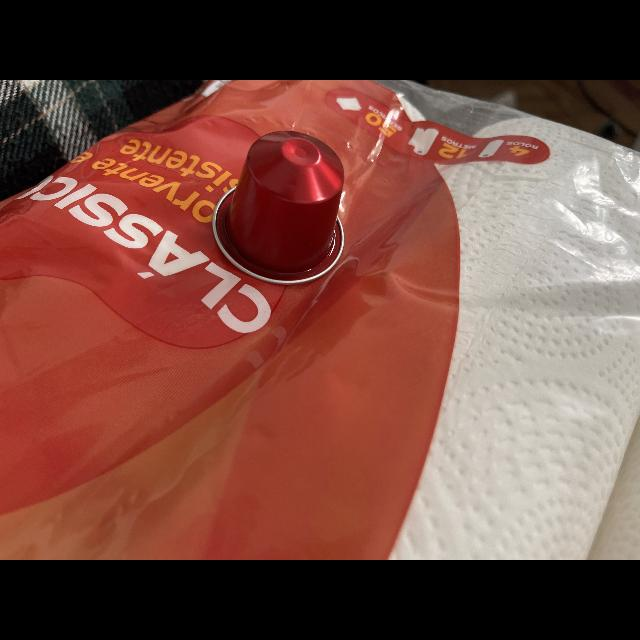intact_capsule: (189, 123, 367, 294)
